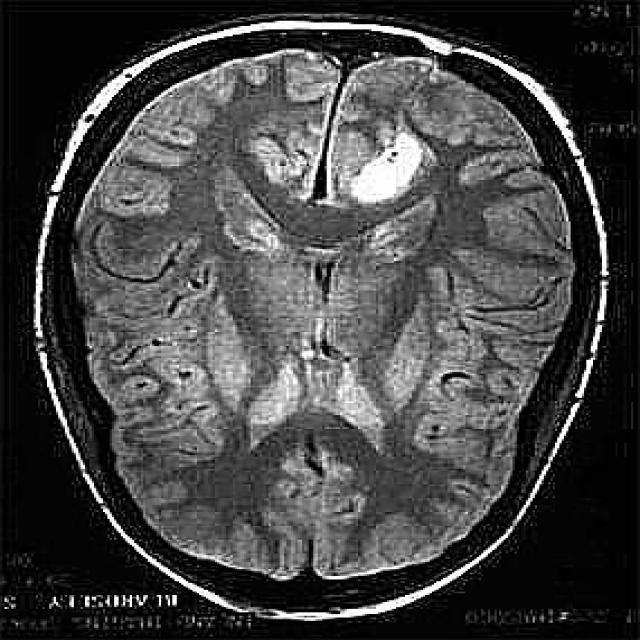Tumor-Cell: (302, 122, 484, 207)
